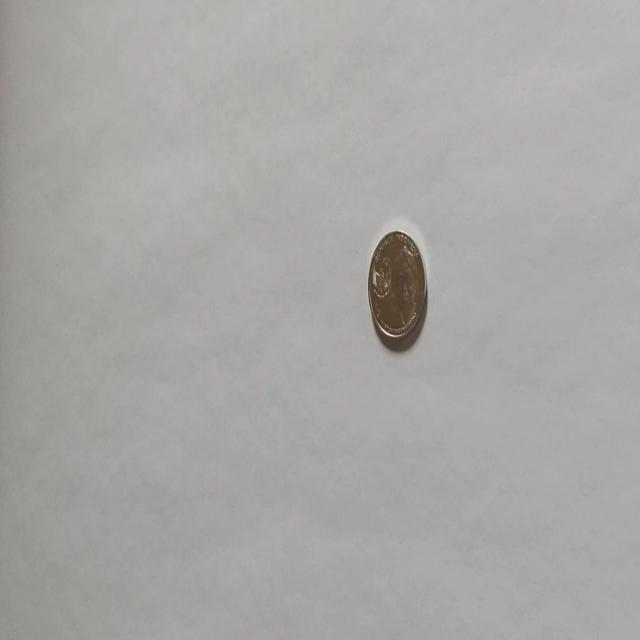dua ratus rupiah: (367, 228, 427, 344)
